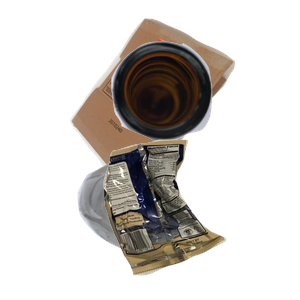cardboard: (67, 16, 295, 196)
glass: (109, 39, 300, 175)
plastic: (75, 154, 248, 300)
trash: (101, 137, 300, 300)
